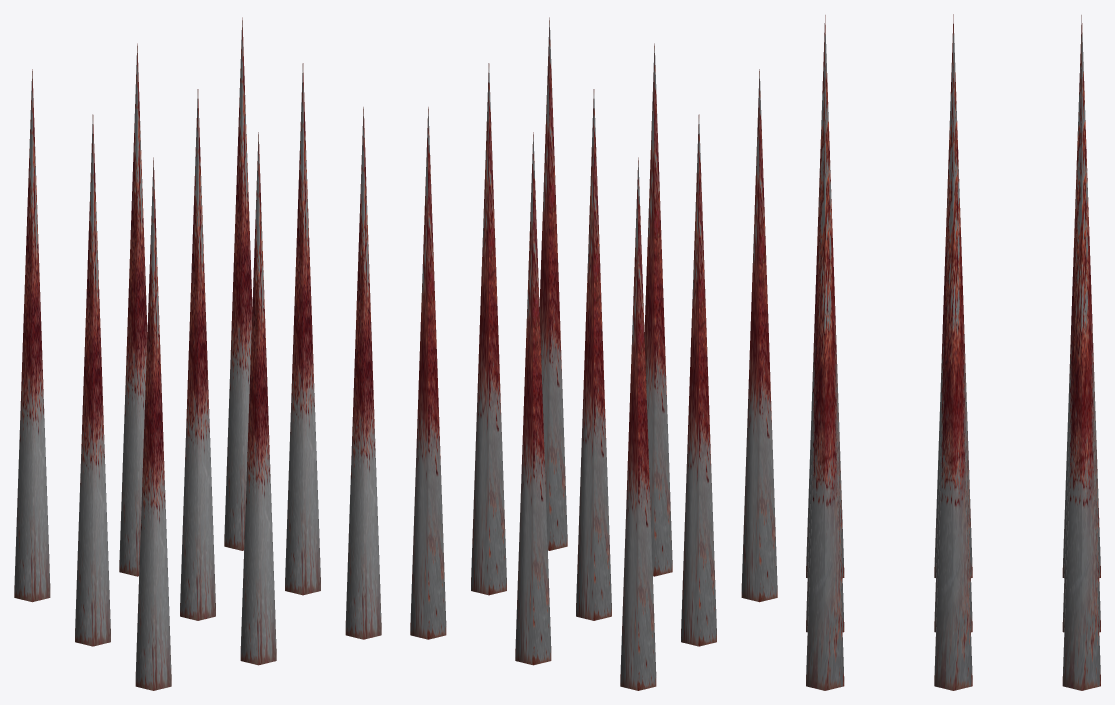
File: MedievalTrap.FBX
3 views of the same model, side by side, from view 1: azimuth 30°, elevation 25°; view 2: azimuth 150°, elevation 25°; view 3: azimuth 270°, elevation 25° (orthographic). The views are drawn at different scales.
Visible parts, largest first — view 1: Cones; view 2: Cones; view 3: Cones.
Part boxes in pixels (x1,y1,x2,y2): Cones: [14, 17, 381, 690]; Cones: [410, 17, 777, 690]; Cones: [806, 14, 1100, 690].
Bounding box in the file's own units: 0.7028 × 1.44 × 0.6891.
